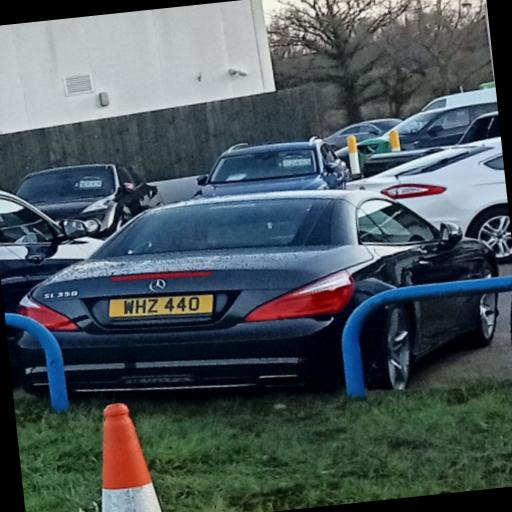numberplates: (109, 295, 214, 318)
